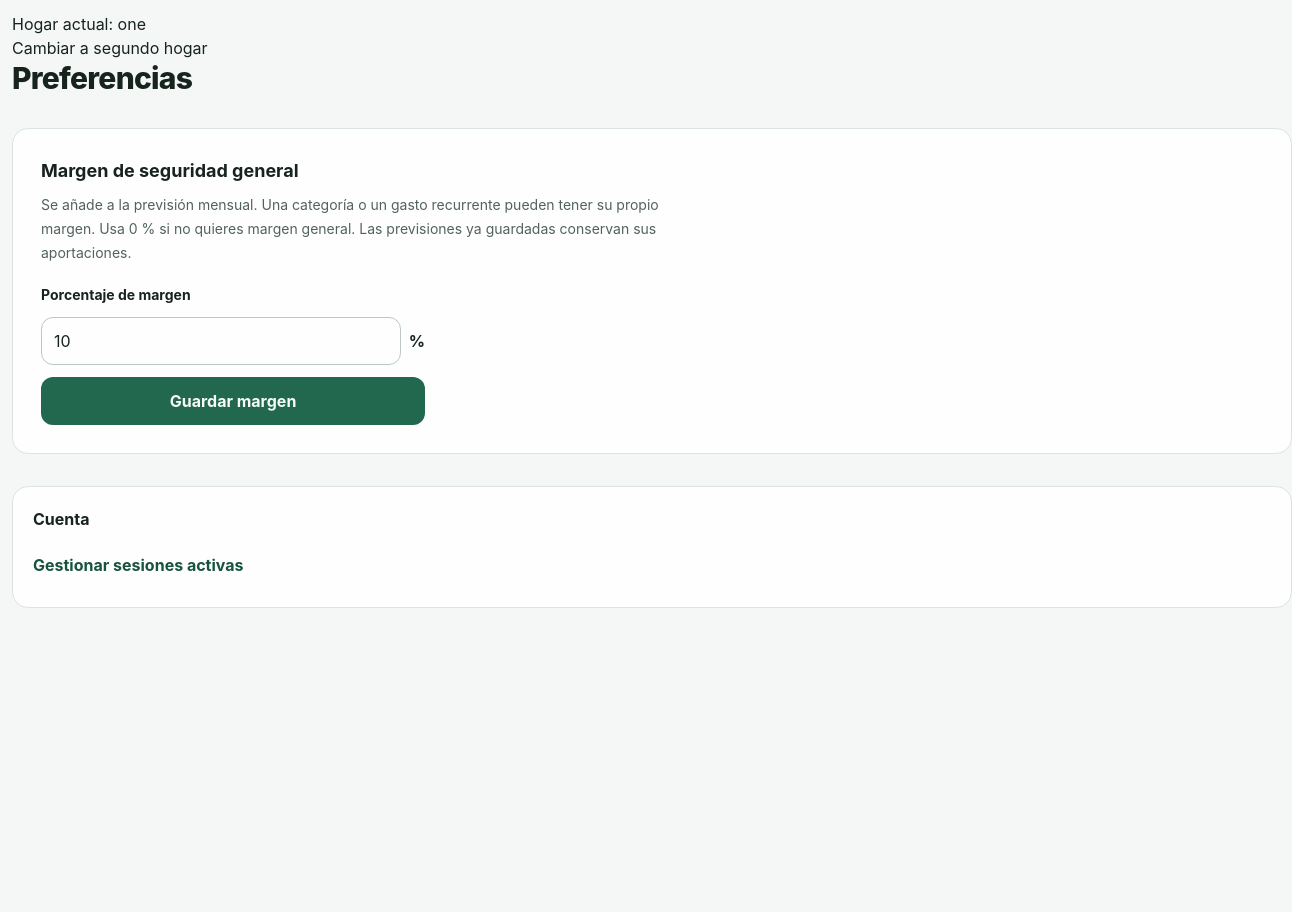
Test case: household-scoped drafts and financial preferences › reports a failed margin save and keeps the draft for retry
Replace the text in the field labelled "Porcentaje de margen" with "12,5" at (221, 341), box [41,317,401,365]
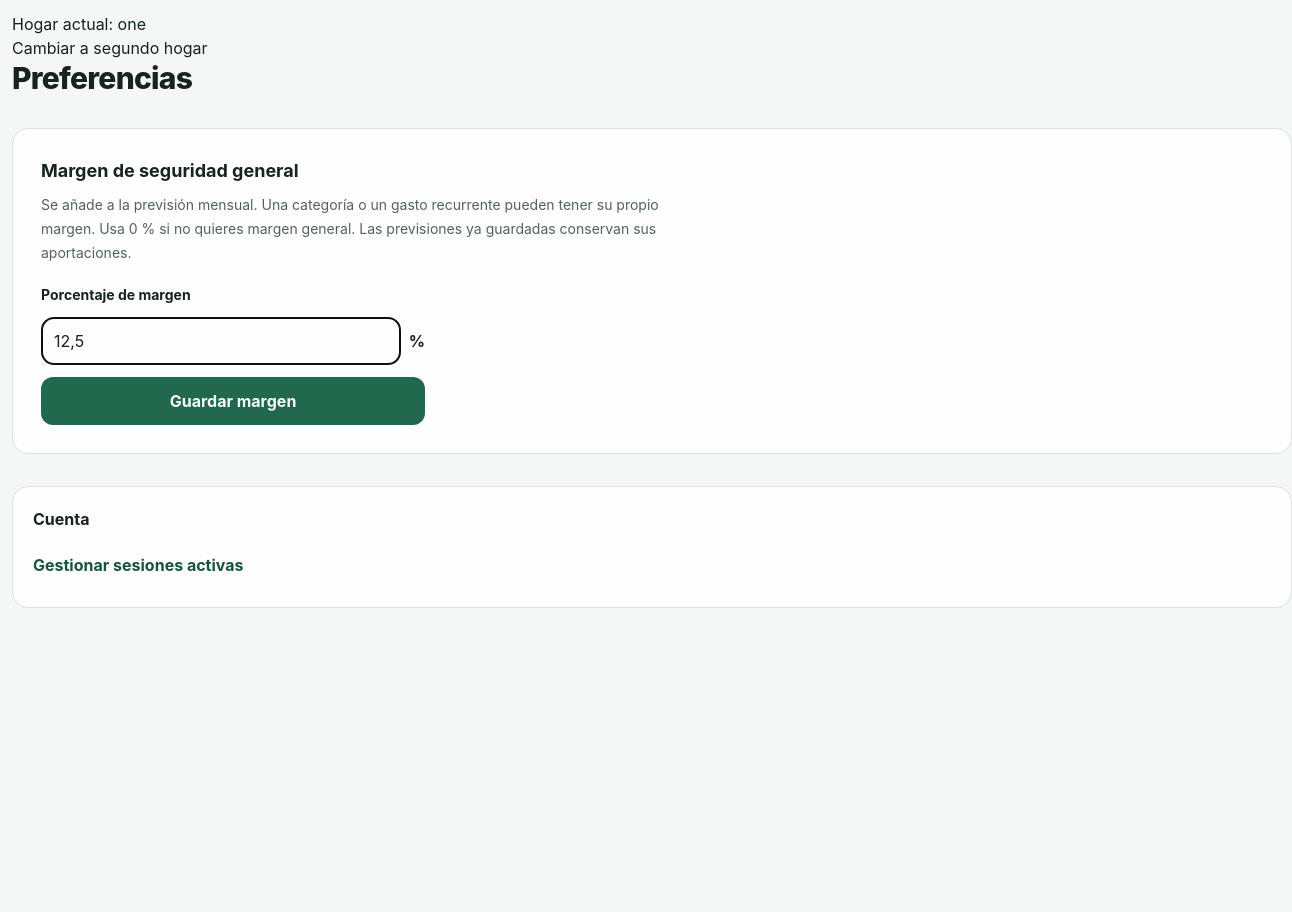
Click the button "Guardar margen".
click(233, 401)  # box [41,377,425,425]
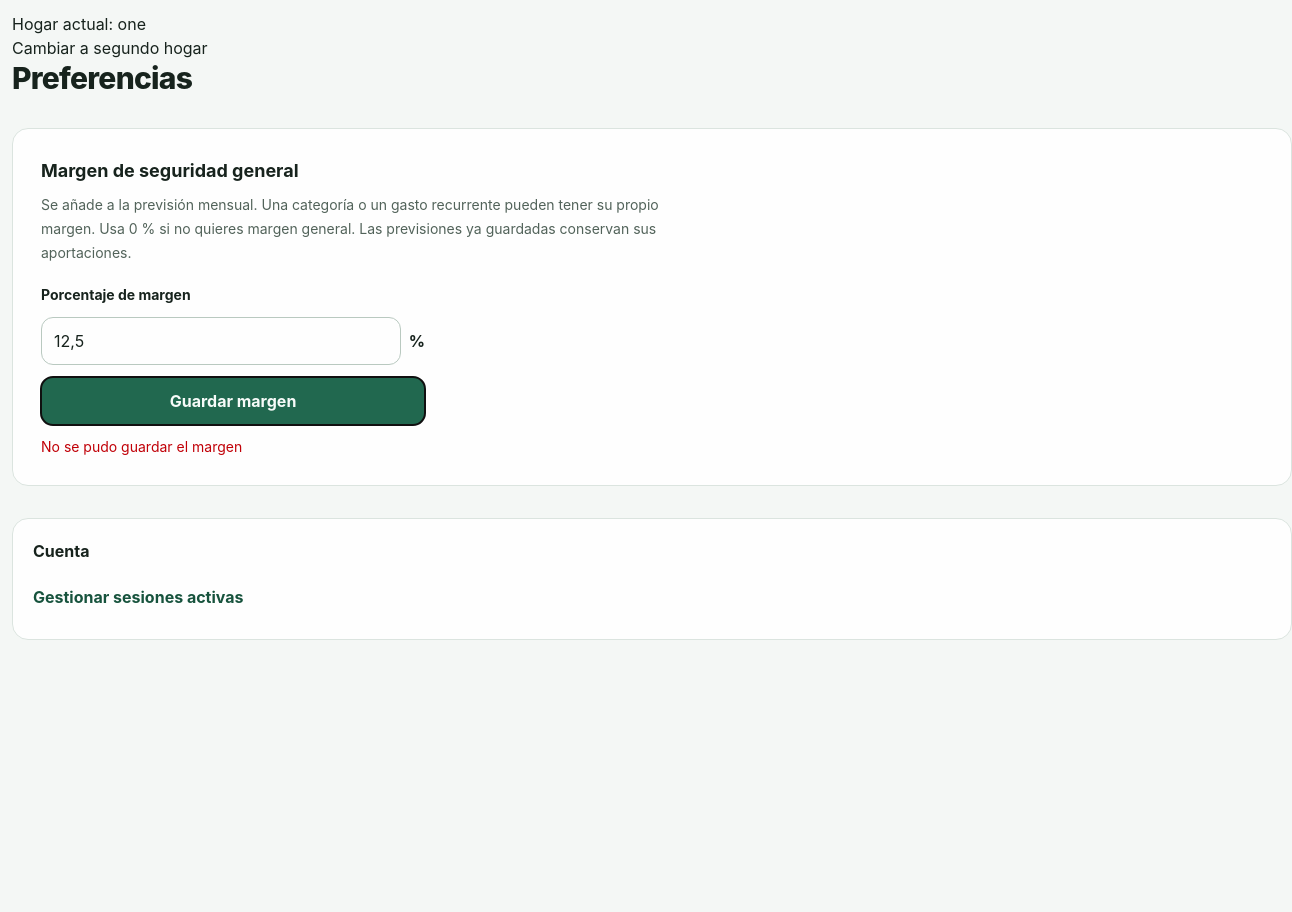
Expected: the message shows "No se pudo guardar", [41,438,242,455]
